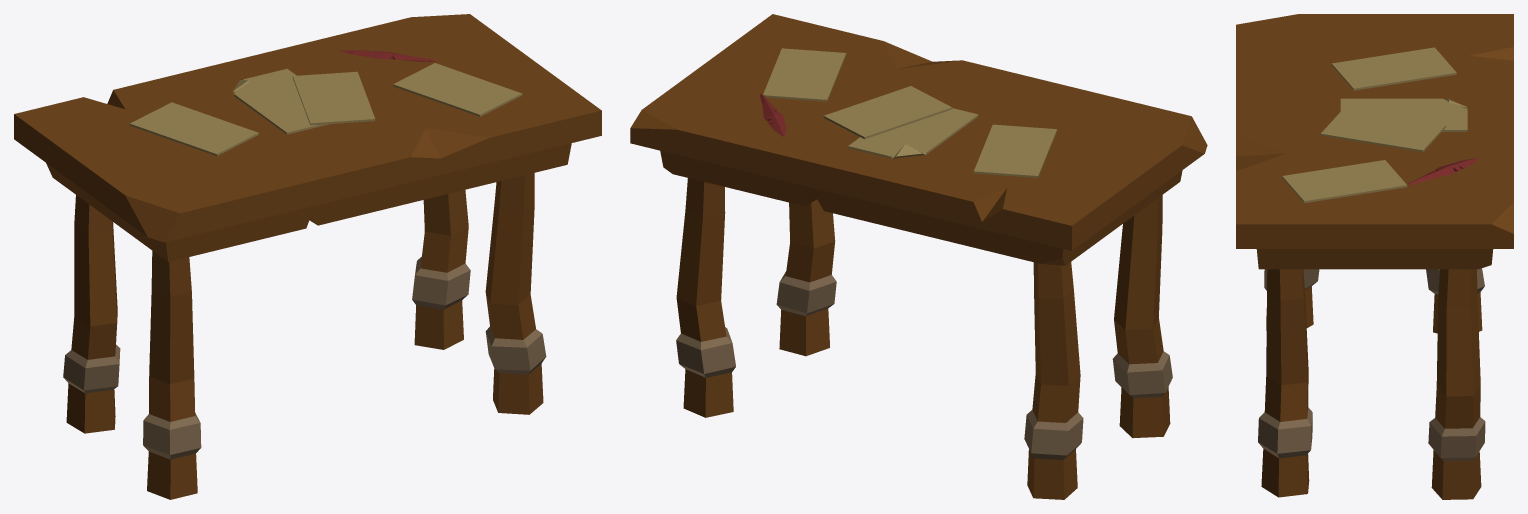
The model's file is NavigatorTable.fbx.
The picture shows the model from 3 angles, left to right: view 1: azimuth 30°, elevation 25°; view 2: azimuth 150°, elevation 25°; view 3: azimuth 270°, elevation 25°; orthographic projection. The views are drawn at different scales.
Visible parts, largest first — view 1: NavigatorTable; view 2: NavigatorTable; view 3: NavigatorTable.
Part boxes in pixels (box(x1,y1,x2,y2)): NavigatorTable: box(14, 14, 601, 499); NavigatorTable: box(630, 14, 1207, 499); NavigatorTable: box(1236, 14, 1513, 499).
Size of the model in its own units: 139 by 92.49 by 77.82.
